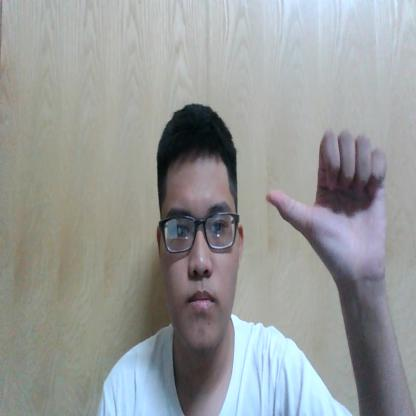right: (266, 130, 387, 270)
